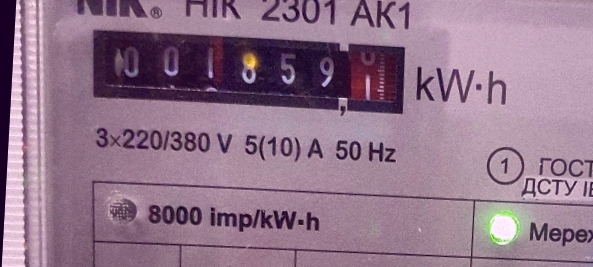0: (120, 43, 142, 80), (160, 43, 181, 77)
1: (204, 44, 217, 80), (360, 70, 374, 102)
5: (277, 49, 299, 86)
8: (238, 49, 260, 85)
9: (315, 53, 336, 89)
screen: (78, 16, 417, 124)
